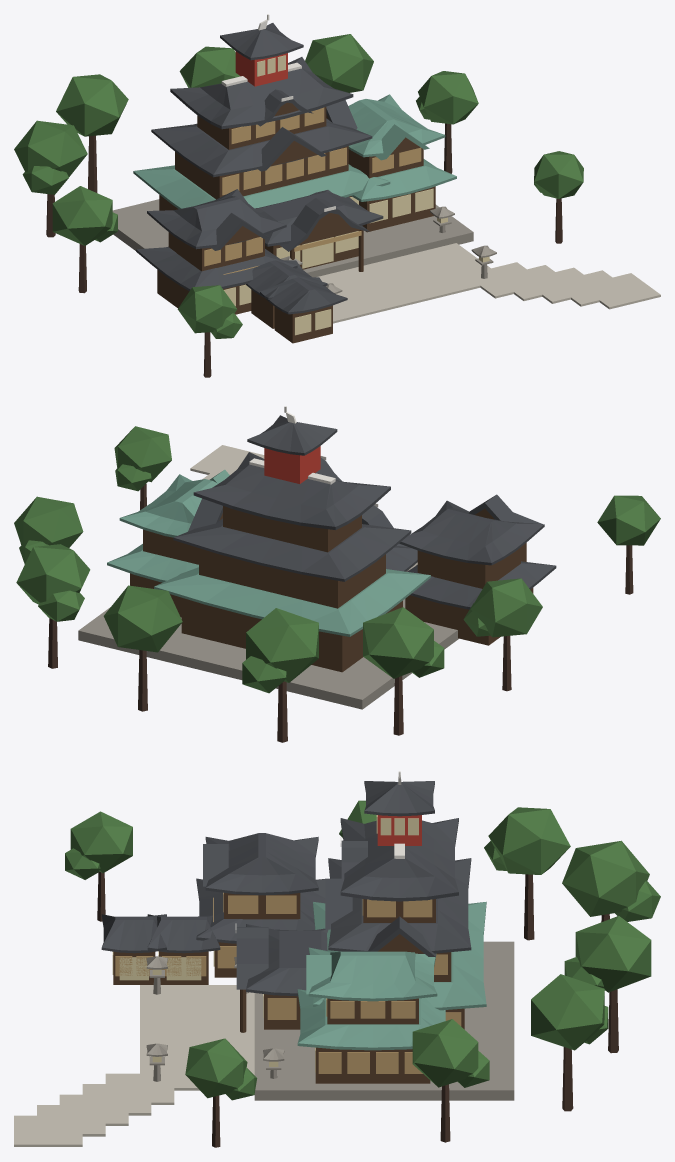
Rendered from dogo-onsen.glb.
The picture shows the model from 3 angles, top to bottom: view 1: azimuth 30°, elevation 25°; view 2: azimuth 150°, elevation 25°; view 3: azimuth 270°, elevation 25°; orthographic projection. The views are drawn at different scales.
Parts seen in each view (by area): view 1: dogo_tile, dogo_leaf, dogo_pave, dogo_wood, dogo_green, dogo_stone, dogo_sudare, dogo_bark, dogo_red, glow_win_2_2, glow_door; view 2: dogo_leaf, dogo_tile, dogo_wood, dogo_green, dogo_stone, dogo_bark, dogo_red, dogo_pave; view 3: dogo_tile, dogo_leaf, dogo_pave, dogo_green, dogo_stone, dogo_sudare, dogo_wood, dogo_bark, dogo_red, glow_lantern_s0, glow_lantern_s1, glow_tower.
Boxes of the visible parts, <box> form: dogo_tile: <box>136,23,383,314</box>; dogo_leaf: <box>14,34,583,338</box>; dogo_pave: <box>316,243,660,323</box>; dogo_wood: <box>157,102,435,343</box>; dogo_green: <box>133,94,456,208</box>; dogo_stone: <box>112,199,496,293</box>; dogo_sudare: <box>204,107,421,274</box>; dogo_bark: <box>46,123,562,377</box>; dogo_red: <box>235,51,287,86</box>; glow_win_2_2: <box>335,188,433,253</box>; glow_door: <box>302,237,333,268</box>; dogo_leaf: <box>14,426,660,693</box>; dogo_tile: <box>173,415,556,609</box>; dogo_wood: <box>130,506,533,672</box>; dogo_green: <box>107,469,430,636</box>; dogo_stone: <box>78,564,458,709</box>; dogo_bark: <box>48,484,633,742</box>; dogo_red: <box>264,446,320,483</box>; dogo_pave: <box>190,445,417,564</box>; dogo_tile: <box>101,781,471,996</box>; dogo_leaf: <box>65,800,660,1100</box>; dogo_pave: <box>14,985,254,1146</box>; dogo_green: <box>297,901,486,1050</box>; dogo_stone: <box>146,941,514,1100</box>; dogo_sudare: <box>115,892,461,1073</box>; dogo_wood: <box>113,893,464,1083</box>; dogo_bark: <box>97,872,618,1147</box>; dogo_red: <box>377,815,421,845</box>; glow_lantern_s0: <box>166,957,201,980</box>; glow_lantern_s1: <box>119,957,148,980</box>; glow_tower: <box>376,815,418,835</box>.
Size of the model in its own units: 15.95 by 7.45 by 16.94.
